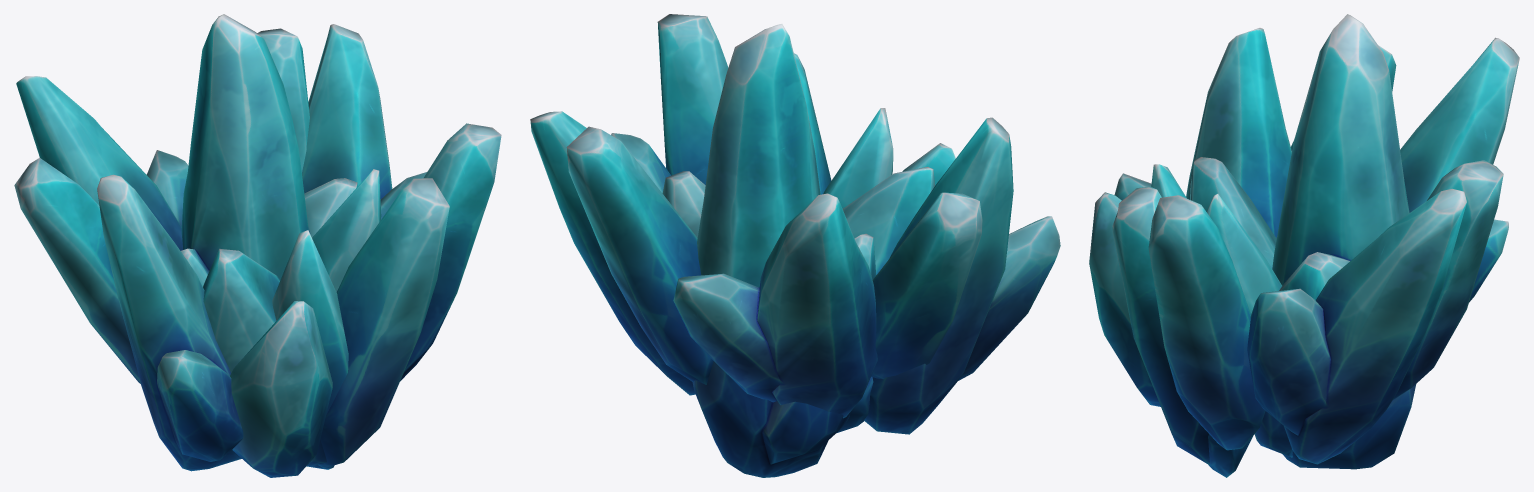
The model's file is SM_Gem_IceCrystal_006.fbx.
3 views of the same model, side by side, from view 1: azimuth 30°, elevation 25°; view 2: azimuth 150°, elevation 25°; view 3: azimuth 270°, elevation 25° (orthographic). The views are drawn at different scales.
Parts seen in each view (by area): view 1: SM_Gem_IceCrystal_006; view 2: SM_Gem_IceCrystal_006; view 3: SM_Gem_IceCrystal_006.
Part boxes in pixels (box(x1,y1,x2,y2)): SM_Gem_IceCrystal_006: box(14, 14, 501, 477); SM_Gem_IceCrystal_006: box(530, 14, 1060, 477); SM_Gem_IceCrystal_006: box(1089, 14, 1519, 477).
Bounding box in the file's own units: 84.89 × 89.6 × 78.56.
